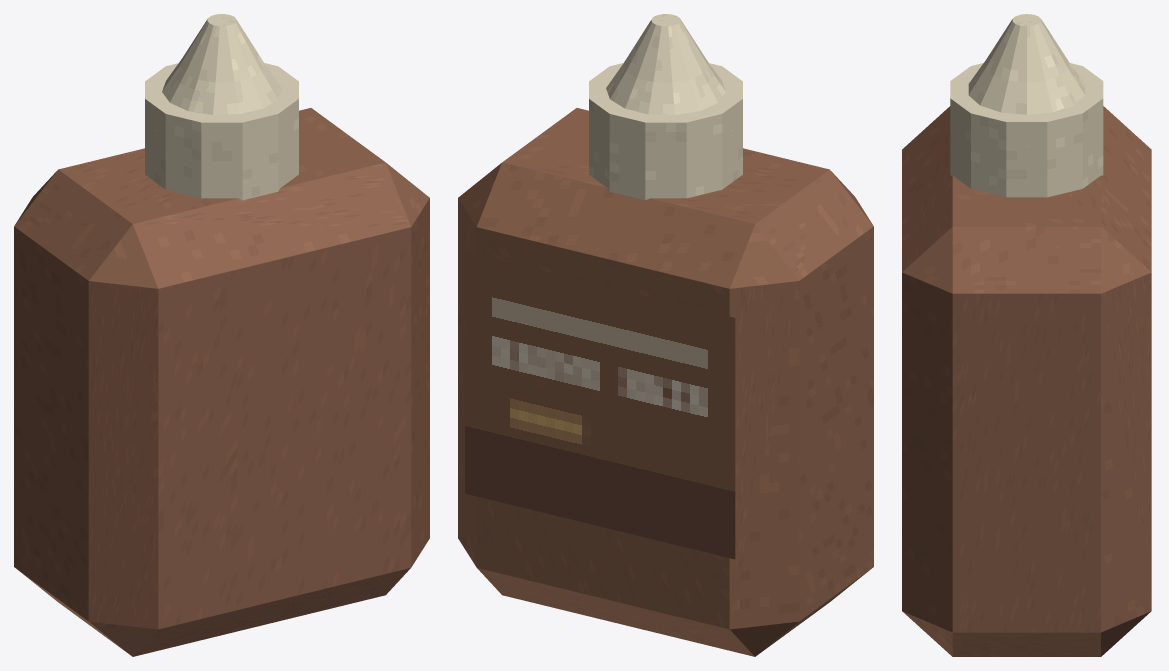
File: hair_dye_brown.glb
3 views of the same model, side by side, from view 1: azimuth 30°, elevation 25°; view 2: azimuth 150°, elevation 25°; view 3: azimuth 270°, elevation 25° (orthographic).
Visible parts, largest first — view 1: block_squeeze bottle, block_pointed dispenser, block_dispenser tip; view 2: block_squeeze bottle, block_salon dye label, block_pointed dispenser, block_dispenser tip; view 3: block_squeeze bottle, block_pointed dispenser, block_dispenser tip.
Part boxes in pixels (x1,y1,x2,y2): block_squeeze bottle: (14,108,429,656); block_pointed dispenser: (145,63,298,200); block_dispenser tip: (155,14,281,130); block_squeeze bottle: (458,108,873,656); block_salon dye label: (465,252,735,559); block_pointed dispenser: (589,63,742,200); block_dispenser tip: (606,14,732,130); block_squeeze bottle: (902,106,1151,656); block_pointed dispenser: (950,63,1103,197); block_dispenser tip: (968,14,1085,146).
Bounding box in the file's own units: 0.0742 × 0.1203 × 0.0479.
Materials: 1 (1 with a texture image).
